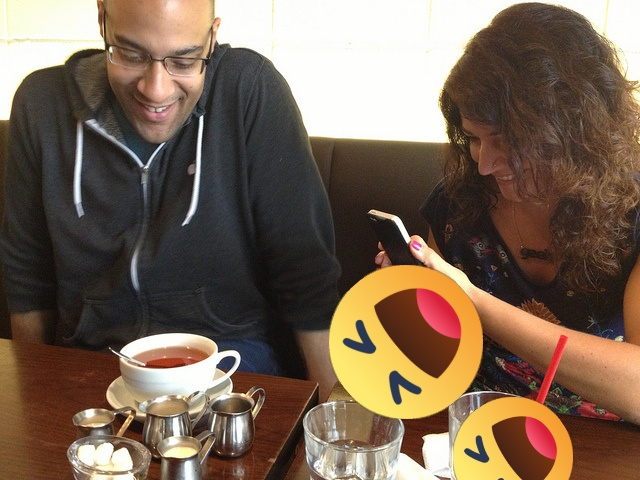haha: (329, 265, 483, 419), (453, 397, 573, 480)
